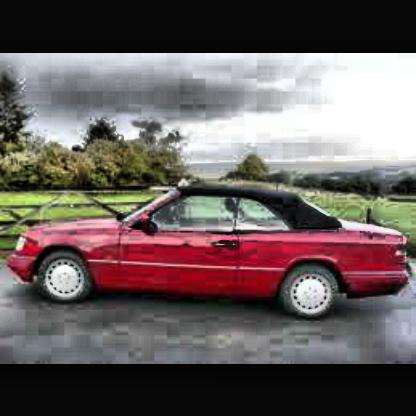Mercedes-Benz 300-Class Convertible 1993: (9, 178, 413, 324)
